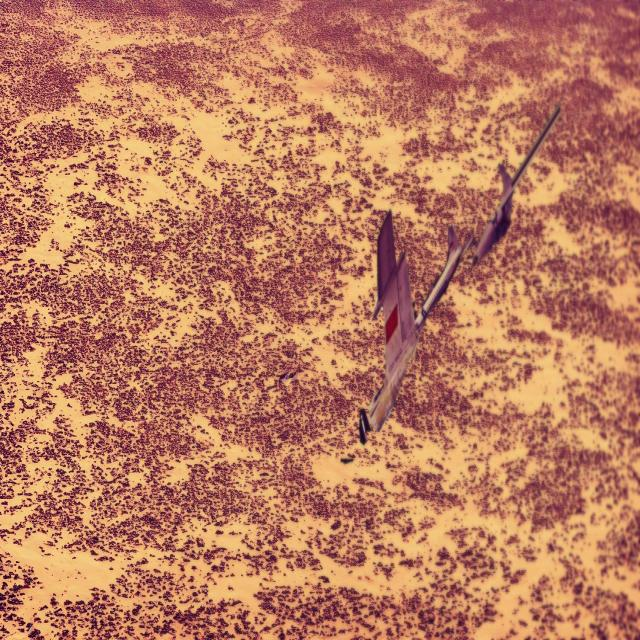airplane: (358, 100, 561, 445)
